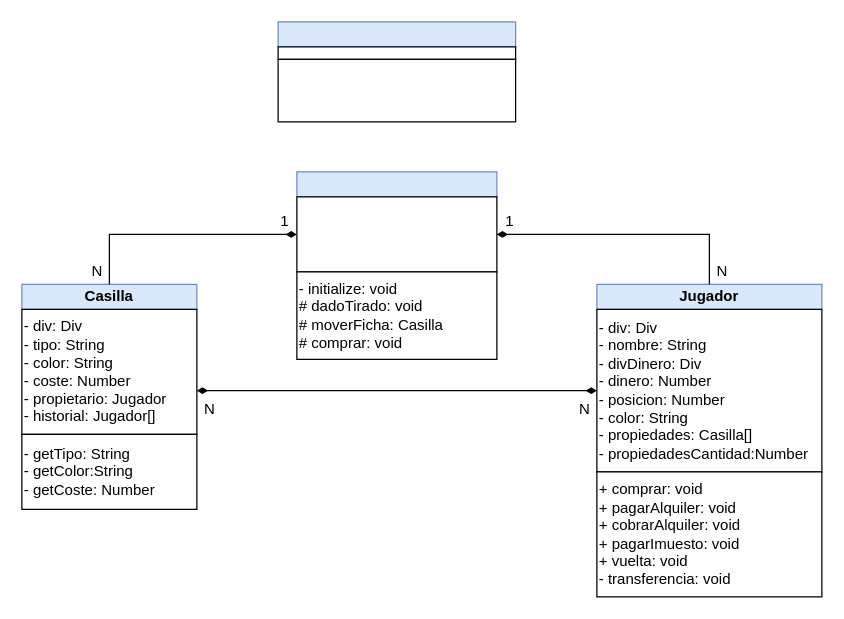
Some shapes in this 844 by 619 pixel diagram are drawn without their labels. Here are the shapes that lost their labels. From the top down, the centre of each, then its label:
(x=396, y=34): Constructora
(x=396, y=90): # construirCasillas: Casilla[] # construirJugadores: Jugador[]
(x=396, y=184): Juego
(x=396, y=234): - casillas: Casilla[] - jugadores: Jugadores[] - ronda: Number
